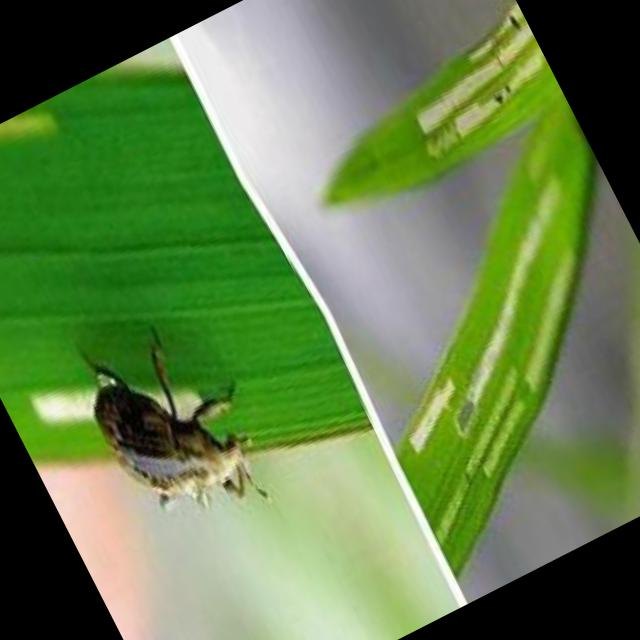rice-bug: (67, 316, 274, 556)
